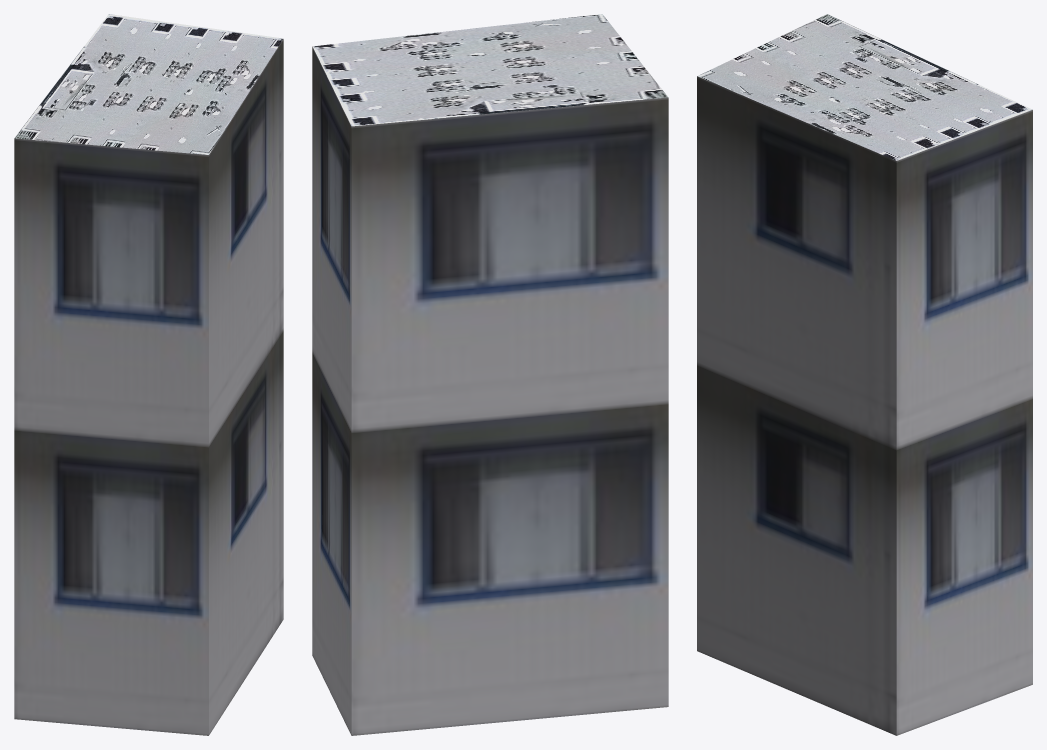
The model's file is ResTex__3458.fbx.
The picture shows the model from 3 angles, left to right: view 1: azimuth 30°, elevation 25°; view 2: azimuth 150°, elevation 25°; view 3: azimuth 270°, elevation 25°; orthographic projection. The views are drawn at different scales.
Visible parts, largest first — view 1: CityEngineMaterial_9_m, CityEngineMaterial_8_m; view 2: CityEngineMaterial_9_m, CityEngineMaterial_8_m; view 3: CityEngineMaterial_9_m, CityEngineMaterial_8_m.
Boxes of the visible parts, x1,y1,x2,y2 form: CityEngineMaterial_9_m: (14,39,283,735); CityEngineMaterial_8_m: (14,14,283,154); CityEngineMaterial_9_m: (312,46,668,735); CityEngineMaterial_8_m: (312,14,668,126); CityEngineMaterial_9_m: (697,76,1032,735); CityEngineMaterial_8_m: (697,14,1032,160).
Size of the model in its own units: 3.29 by 6 by 3.18.
2 materials, 2 textured.
